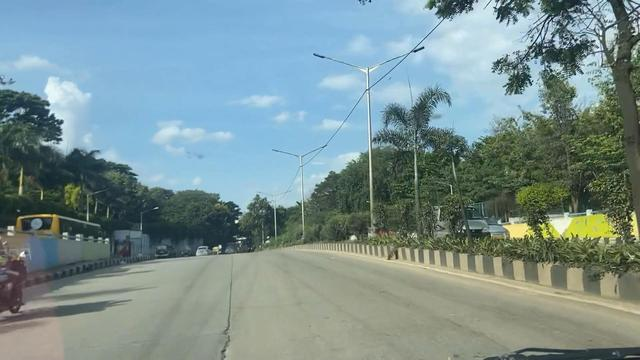RoadDamages: (196, 303, 254, 356), (206, 255, 240, 297)
